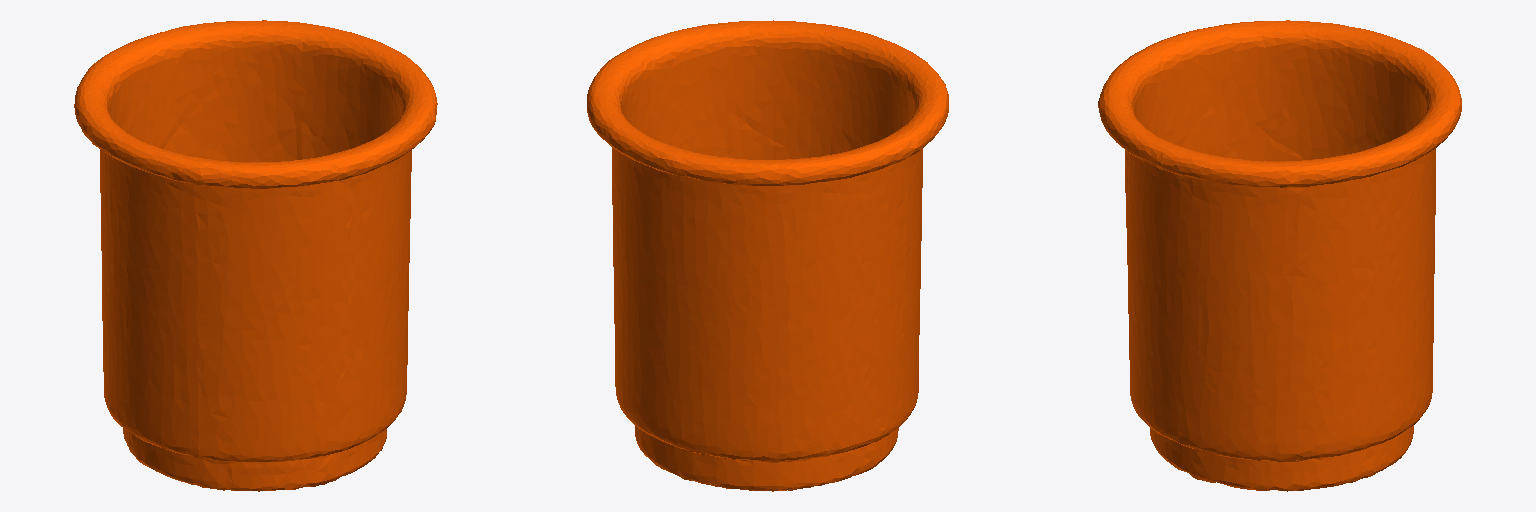
URDF robot description (065-b_cups):
<?xml version="1.0" ?>
<robot name="065-b_cups">
   <material name="obj_color">
      <color rgba="1.0 0.423529411765 0.0392156862745 1.0"/>
   </material>
   <link name="top">
      <inertial>
         <origin rpy="2.647124408984393e-05 2.996331799986988e-05 3.061112639992058e-05" xyz="0.001001709621789923 0.001773824282106341 -0.0003175399163889906"/>
         <mass value="0.04779725097001634"/>
         <inertia ixx="3.055649937753849e-05" ixy="-2.142299869707331e-07" ixz="1.856681599359924e-07" iyy="2.976297439310061e-05" iyz="8.895679433753333e-07" izz="2.67262147189953e-05"/>
      </inertial>
      <visual>
         <origin rpy="0 0 0" xyz="0 0 0"/>
         <geometry>
            <mesh filename="top_watertight_tiny.stl" scale="1 1 1"/>
         </geometry>
         <material name="obj_color"/>
      </visual>
      <collision>
         <origin rpy="0 0 0" xyz="0 0 0"/>
         <geometry>
            <mesh filename="top_watertight_tiny.obj" scale="1 1 1"/>
         </geometry>
      </collision>
   </link>
   <link name="bottom">
      <inertial>
         <origin rpy="1.633333333199431e-08 1.633333333199431e-08 1.633333333362855e-08" xyz="0.3464080000000008 0.3464080000000008 0.3464080000000008"/>
         <mass value="0.0009800000000000017"/>
         <inertia ixx="1.633333333253906e-08" ixy="5.447480642029219e-19" ixz="5.447480642029219e-19" iyy="1.633333333253906e-08" iyz="5.447480642029219e-19" izz="1.633333333253906e-08"/>
      </inertial>
      <visual>
         <origin rpy="0 0 0" xyz="0 0 0"/>
         <geometry>
            <mesh filename="bottom_watertight_tiny.stl" scale="1 1 1"/>
         </geometry>
         <material name="obj_color"/>
      </visual>
   </link>
   <joint name="rotation" type="revolute">
      <origin xyz="0 0 0"/>
      <axis xyz="0 0 -1"/>
      <parent link="bottom"/>
      <child link="top"/>
      <dynamics damping="1.0" friction="1.0"/>
      <limit effort="0.1" velocity="0.1" lower="0" upper="0.001"/>
   </joint>
</robot>

--- What the picture shows (computed from the rendered views, not written in the file) ---
3 views of the same robot in one strip: view 1: azimuth 30°, elevation 25°; view 2: azimuth 150°, elevation 25°; view 3: azimuth 270°, elevation 25° (orthographic).
Robot: 065-b_cups — 2 links, 1 joints (1 revolute); root link bottom; default pose: every joint at zero.
Visible links, largest first — view 1: top; view 2: top; view 3: top.
Link boxes in pixels (bbox=[...]): top: bbox=[74, 20, 437, 491]; top: bbox=[587, 20, 948, 491]; top: bbox=[1098, 20, 1461, 491].
Bounding box of the posed robot: 0.061 × 0.0609 × 0.064 m (x, y, z).
Meshes: 2 distinct files referenced, 1 mesh visuals loaded (1 binary STL); not drawn: 1 (reference not matched to a file when rendering).
